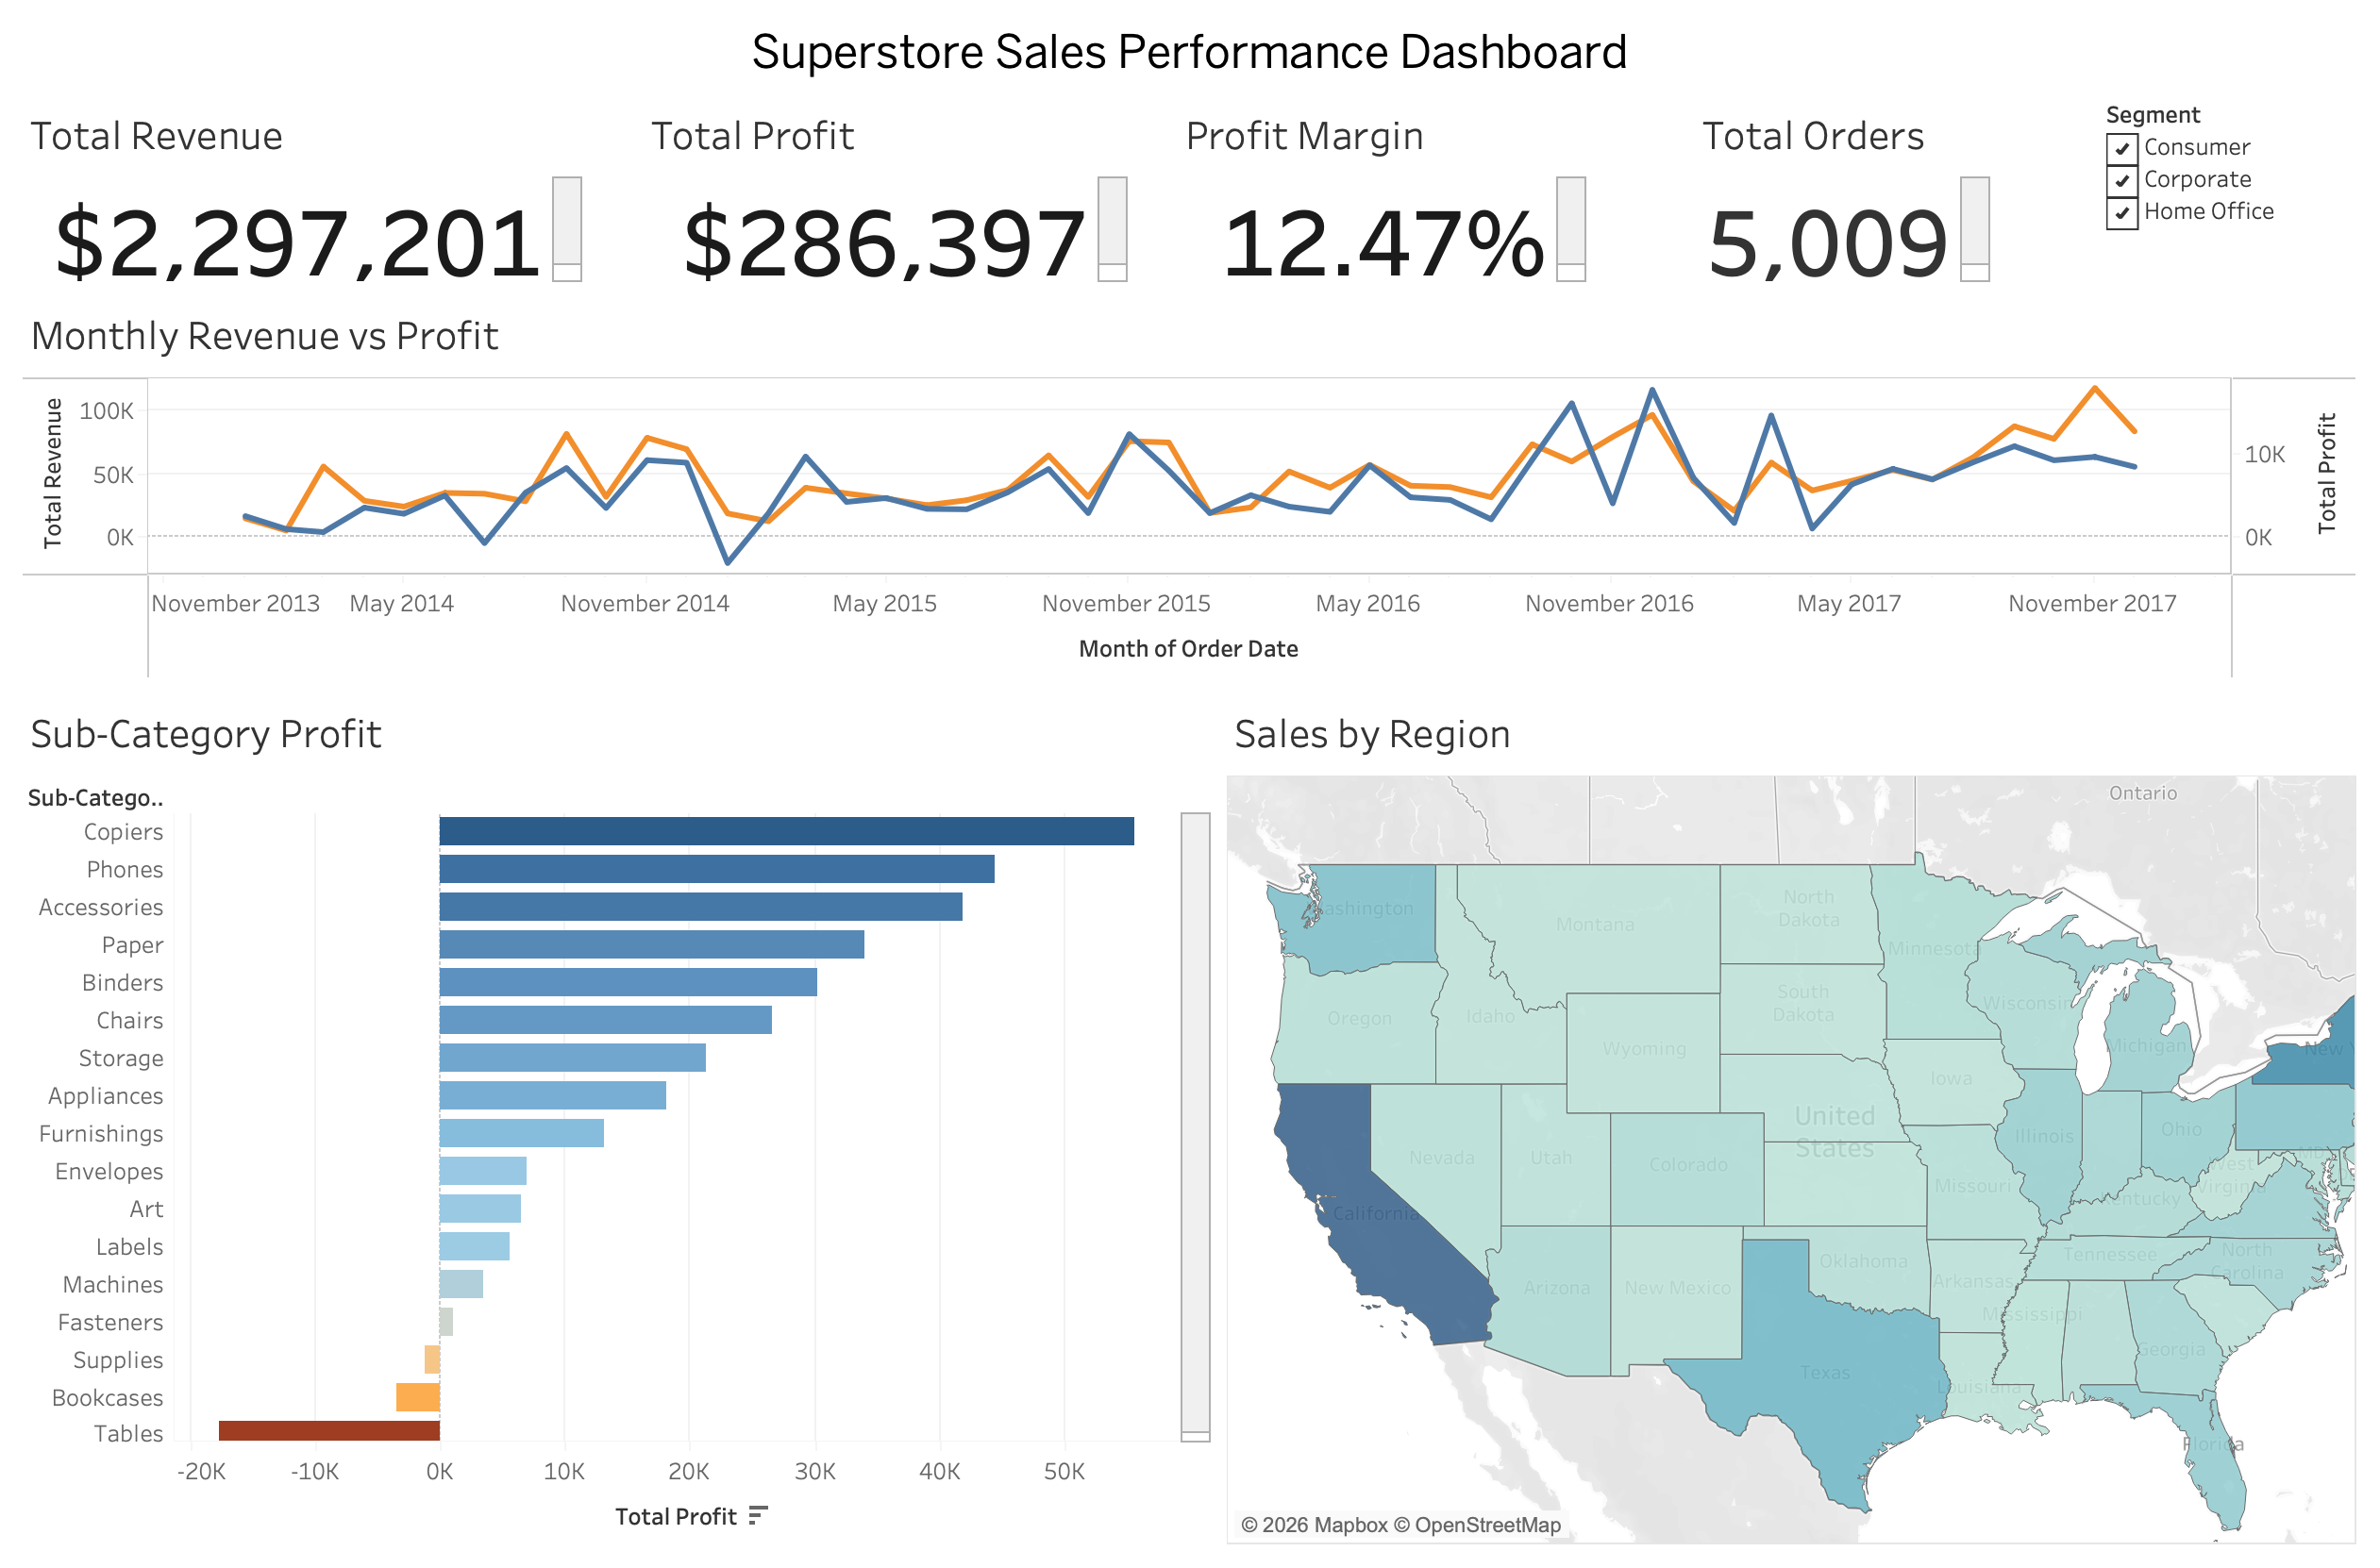

What the dashboard file says about the page in this screenshot:
{"tool":"tableau","page":{"name":"Sales Dashboard","canvas":[1000,1000],"units":"permille","ordinal":0},"visuals":[{"type":"title","box":[6.3,9.6,987.3,46.9]},{"type":"worksheet","title":"Total Revenue","mark":"Text","box":[6.3,56.6,261.1,127.5]},{"type":"worksheet","title":"Total Profit","mark":"Text","box":[267.5,56.6,223.9,127.5]},{"type":"worksheet","title":"Profit Margin","mark":"Automatic","box":[491.4,56.6,217.9,127.5]},{"type":"worksheet","title":"Total Orders","mark":"Text","box":[709.3,56.6,172.5,127.5]},{"type":"filter","title":"Sub-Category Profit","param":"[federated.009twq01h4xf3w17lzn4a1jwlarn].[none:segment:nk]","box":[881.8,56.6,111.9,127.5]},{"type":"worksheet","title":"Monthly Revenue vs Profit","mark":"Automatic","rows":["Calculation_1286324440440832","Calculation_1286324440612865"],"cols":["order_date"],"box":[6.3,184.1,987.3,254]},{"type":"worksheet","title":"Sub-Category Profit","mark":"Automatic","rows":["sub-category"],"cols":["Calculation_1286324440612865"],"box":[6.3,438,505.9,552.3]},{"type":"worksheet","title":"Sales by Region","mark":"Automatic","box":[512.2,438,481.4,552.3]}]}

Visuals, with their boxes on the dashboard's canvas, which has no fixed pixel size, in thousandths of its width and height (x1, y1, x2, y2). These are canvas units, not pixel positions in the 2380x1568 screenshot, which may show the page scaled, cropped or inside an application window:
title: left=6, top=10, right=994, bottom=56
"Total Revenue" worksheet (Text marks): left=6, top=57, right=267, bottom=184
"Total Profit" worksheet (Text marks): left=268, top=57, right=491, bottom=184
"Profit Margin" worksheet: left=491, top=57, right=709, bottom=184
"Total Orders" worksheet (Text marks): left=709, top=57, right=882, bottom=184
"Sub-Category Profit" filter: left=882, top=57, right=994, bottom=184
"Monthly Revenue vs Profit" worksheet: left=6, top=184, right=994, bottom=438
"Sub-Category Profit" worksheet: left=6, top=438, right=512, bottom=990
"Sales by Region" worksheet: left=512, top=438, right=994, bottom=990
